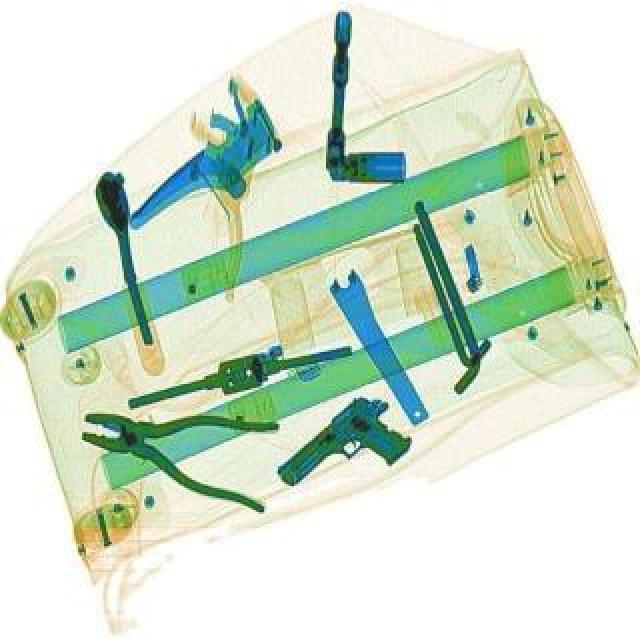gun: (272, 382, 424, 518)
wrench: (70, 380, 286, 510)
